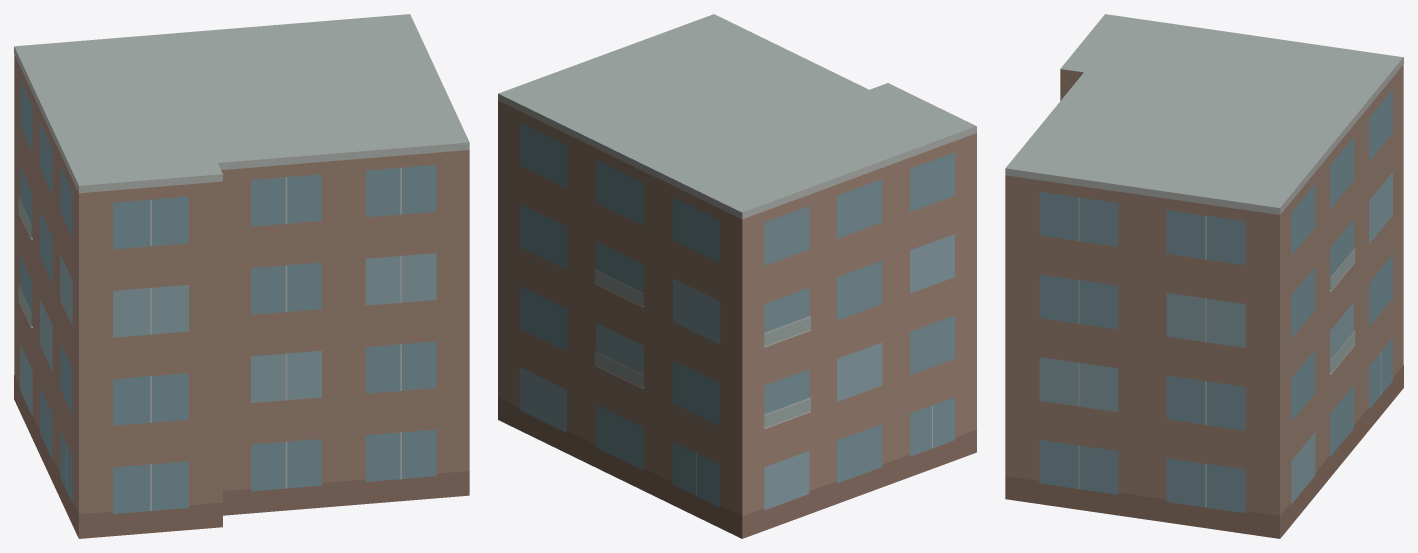
File: survey-upis-32808915.glb
3 views of the same model, side by side, from view 1: azimuth 30°, elevation 25°; view 2: azimuth 150°, elevation 25°; view 3: azimuth 270°, elevation 25° (orthographic). The views are drawn at different scales.
Parts seen in each view (by area): view 1: survey-upis-32808915.tmp; view 2: survey-upis-32808915.tmp; view 3: survey-upis-32808915.tmp.
Boxes of the visible parts, x1,y1,x2,y2 form: survey-upis-32808915.tmp: (14, 14, 469, 538); survey-upis-32808915.tmp: (498, 14, 976, 538); survey-upis-32808915.tmp: (1005, 14, 1403, 538).
Size of the model in its own units: 14.74 by 11.7 by 12.78.
